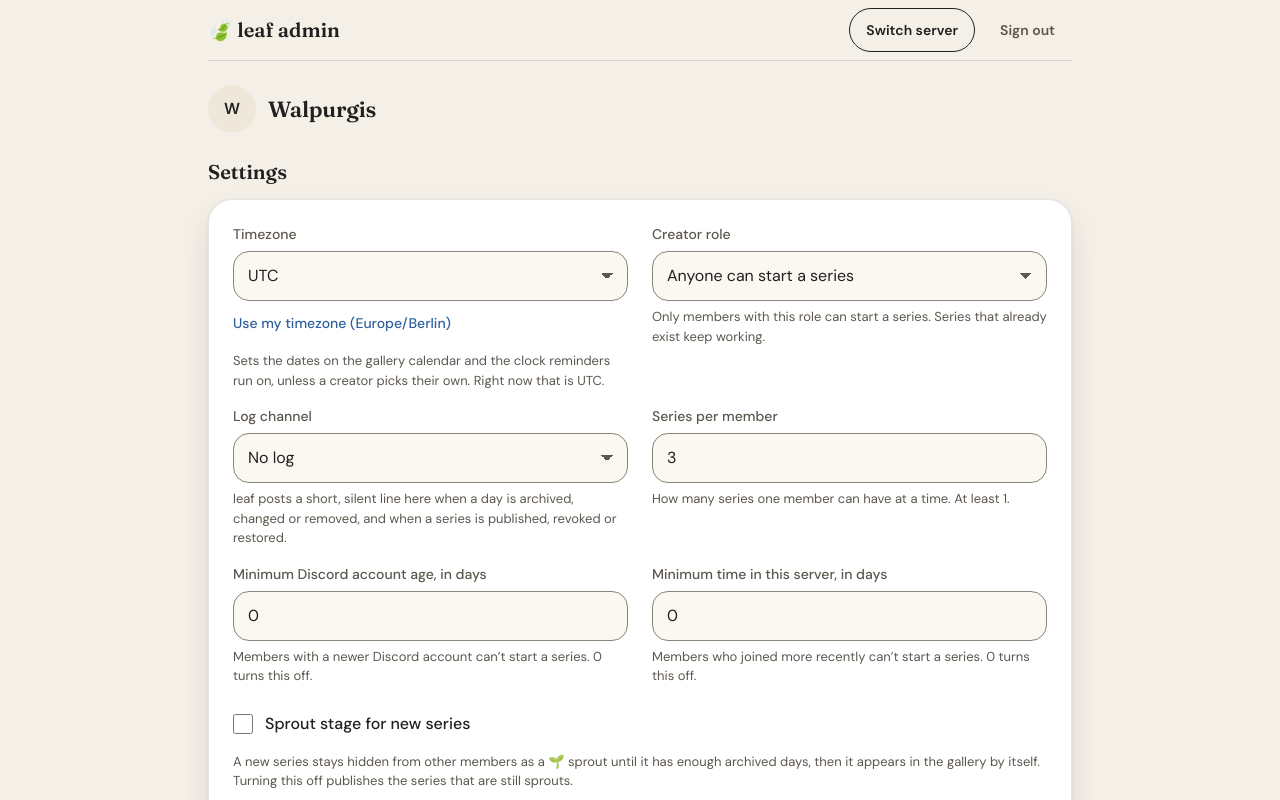
it: Admin with unsaved settings › leaves without asking when nothing was changed
This screenshot has width=1280, height=800.
Click the button "Switch server".
click(912, 30)  # box [849,8,975,52]
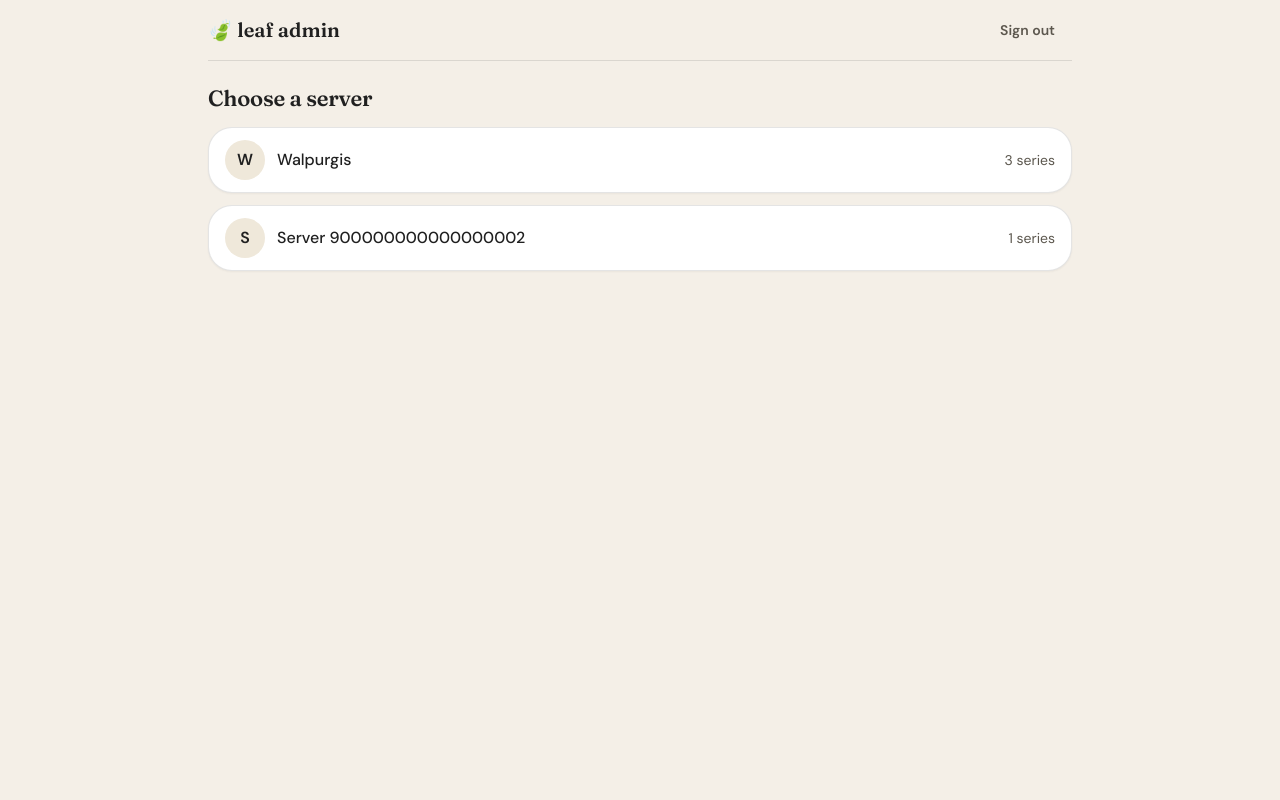
expect the heading "Choose a server" is shown: met, box [208,84,372,112]
